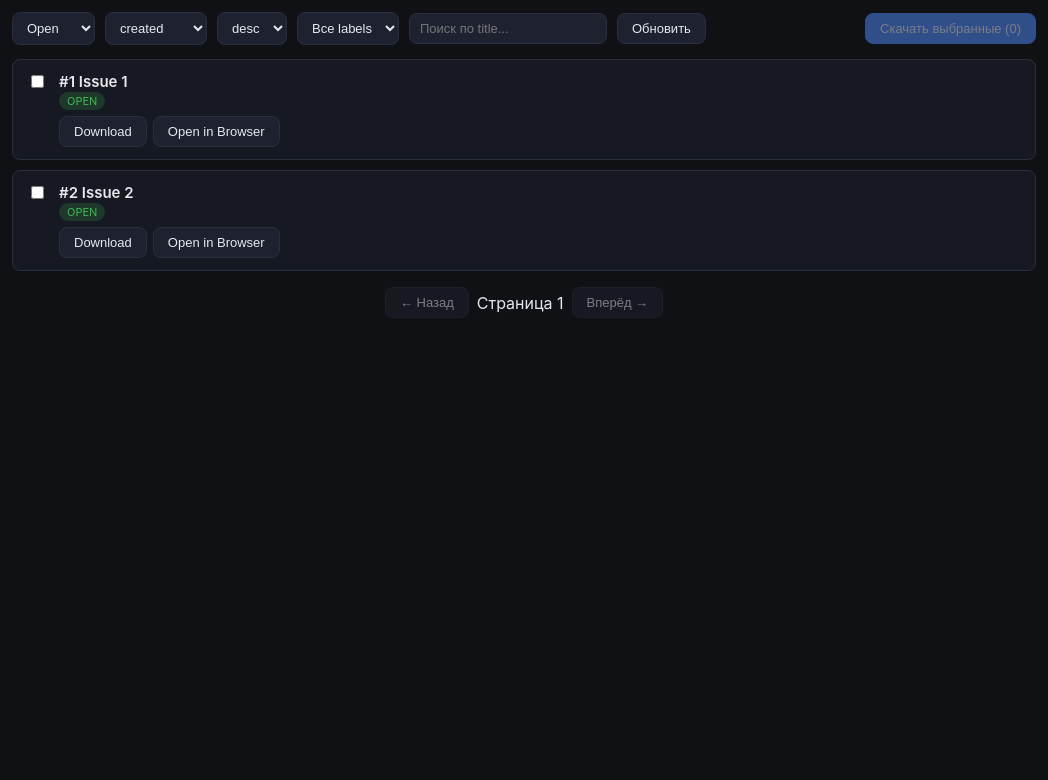
Test case: closing the list › clicking outside closes the list
The width and height of the screenshot is (1048, 780).
Type "!dep#log" into the field with placeholder "Поиск по title..." at (508, 28), box [409, 13, 607, 44]
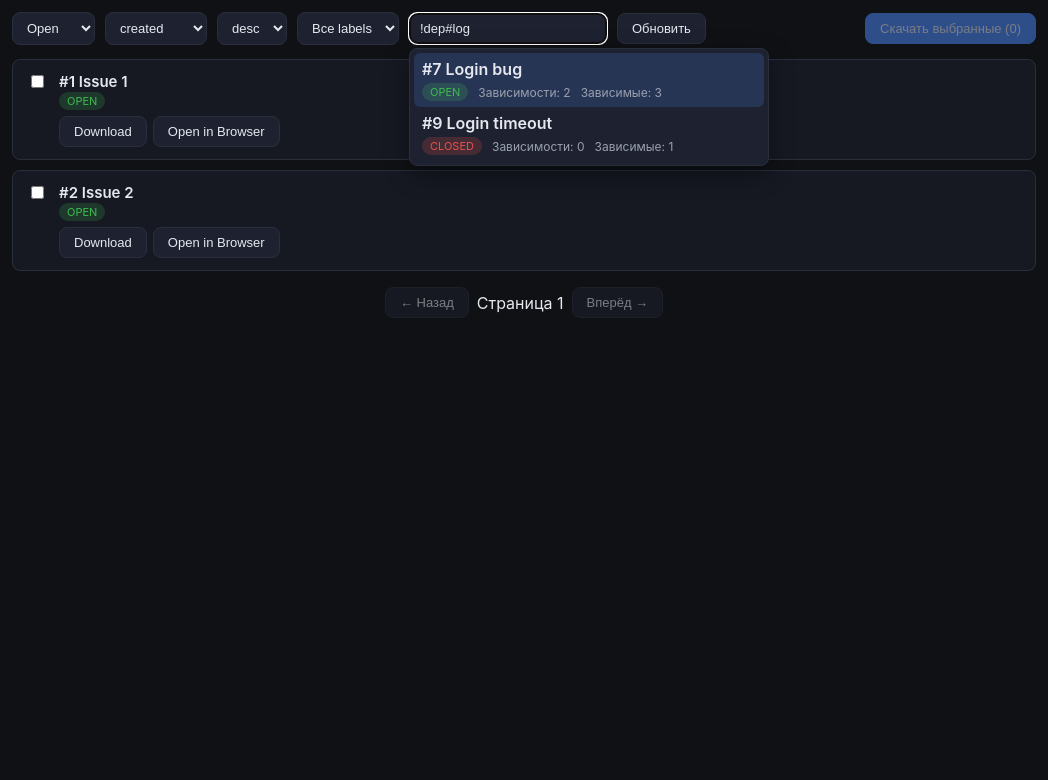
Expected: the option "#7 Login bug open Зависимости: 2 Зависимые: 3" is shown, [414, 53, 764, 107]
Click the element that starts with "Login bug" at (524, 396), box [12, 12, 1036, 779]
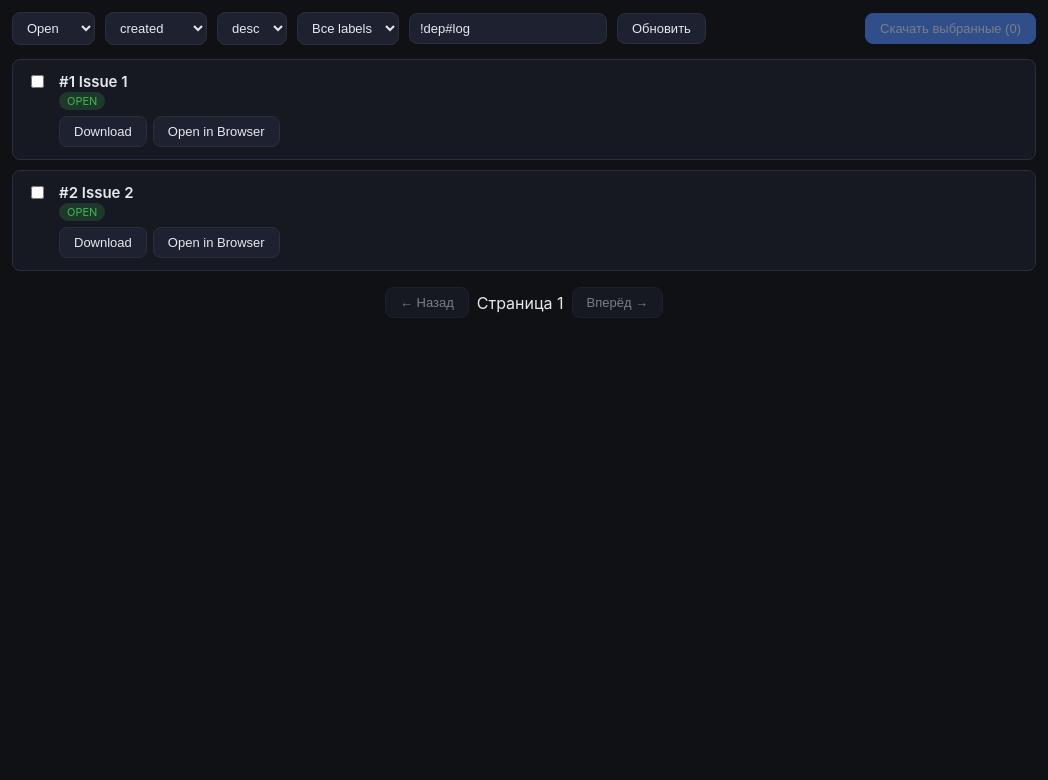
Expected: the list "Автодополнение" is gone
